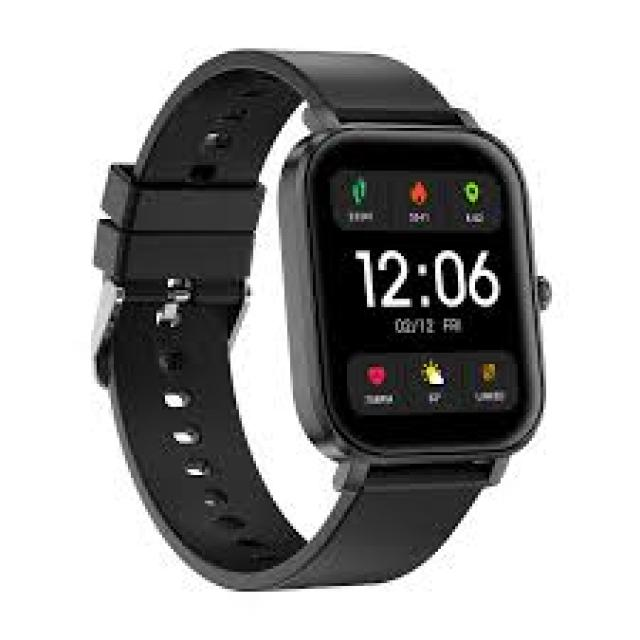objects: (97, 51, 555, 594)
